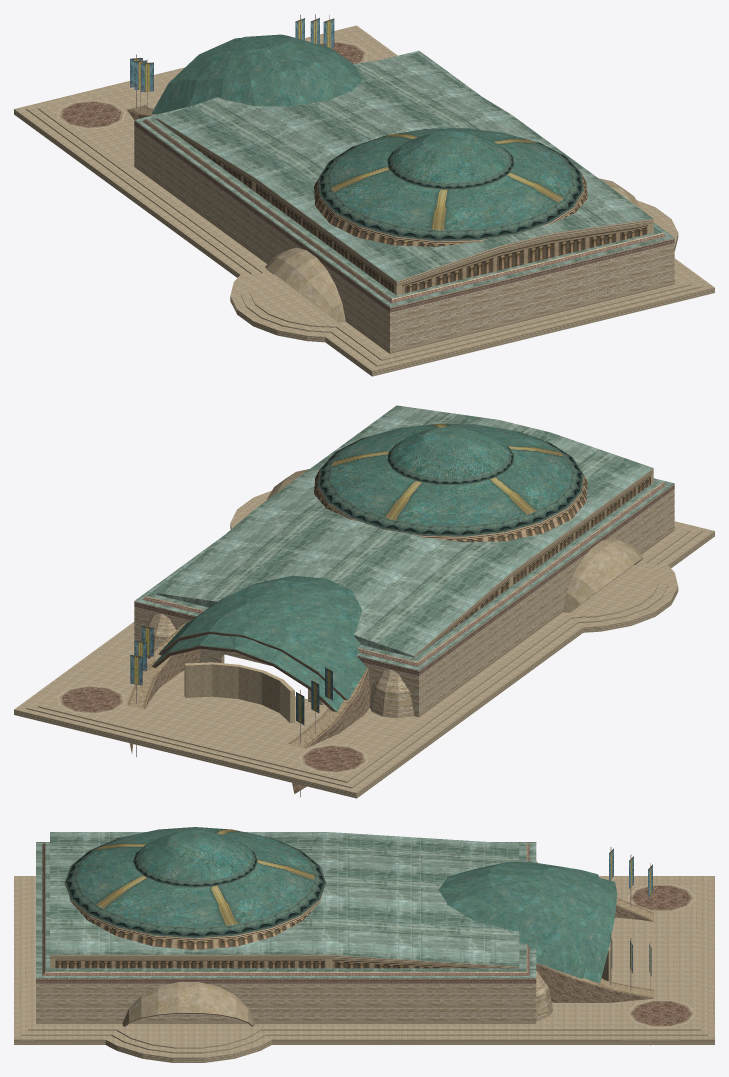
The model's file is mun_nboo_guild_theater_s01_r0_mesh_l1.fbx.
3 renders of one model, top to bottom at view 1: azimuth 30°, elevation 25°; view 2: azimuth 150°, elevation 25°; view 3: azimuth 270°, elevation 25°, orthographic. The views are drawn at different scales.
Visible parts, largest first — view 1: mesh_node; view 2: mesh_node; view 3: mesh_node.
Part boxes in pixels (x1,y1,x2,y2): mesh_node: [14, 14, 714, 376]; mesh_node: [14, 405, 714, 798]; mesh_node: [14, 827, 714, 1062].
Size of the model in its own units: 81.75 by 32.27 by 121.
